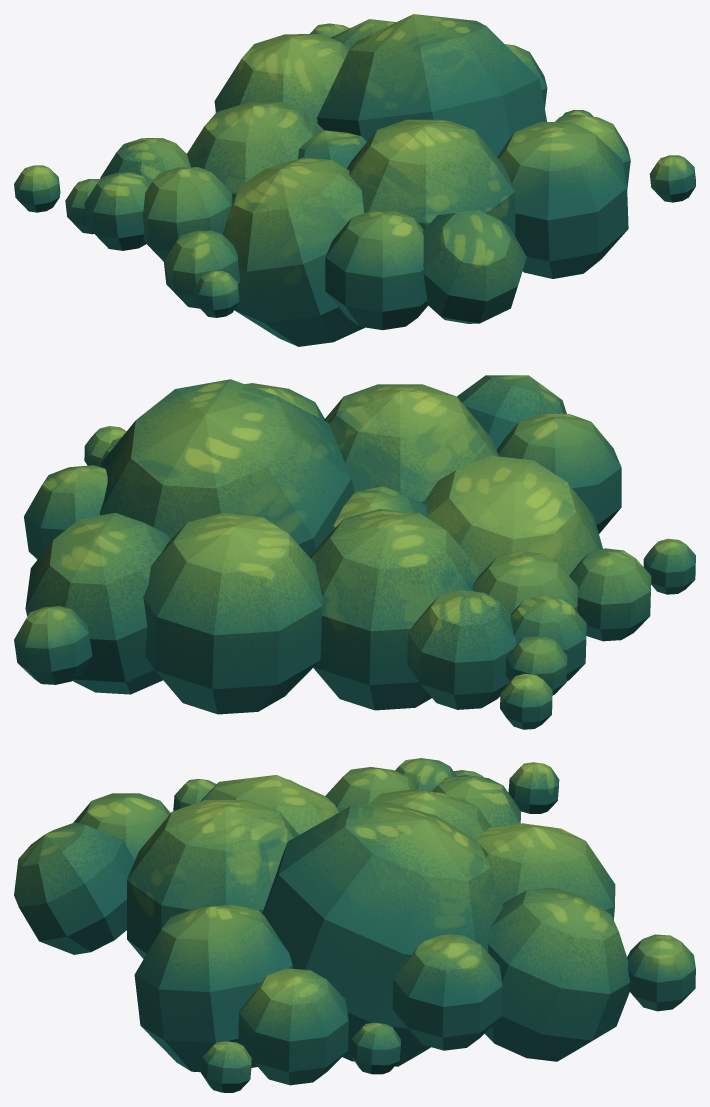
Rendered from mesh_mousse.fbx.
3 renders of one model, top to bottom at view 1: azimuth 30°, elevation 25°; view 2: azimuth 150°, elevation 25°; view 3: azimuth 270°, elevation 25°, orthographic. The views are drawn at different scales.
Parts seen in each view (by area): view 1: mousse; view 2: mousse; view 3: mousse.
Boxes of the visible parts, bbox=[...] form: mousse: bbox=[14, 14, 695, 346]; mousse: bbox=[14, 375, 695, 729]; mousse: bbox=[14, 758, 695, 1092].
Bounding box in the file's own units: 0.213 × 0.0843 × 0.2117.
